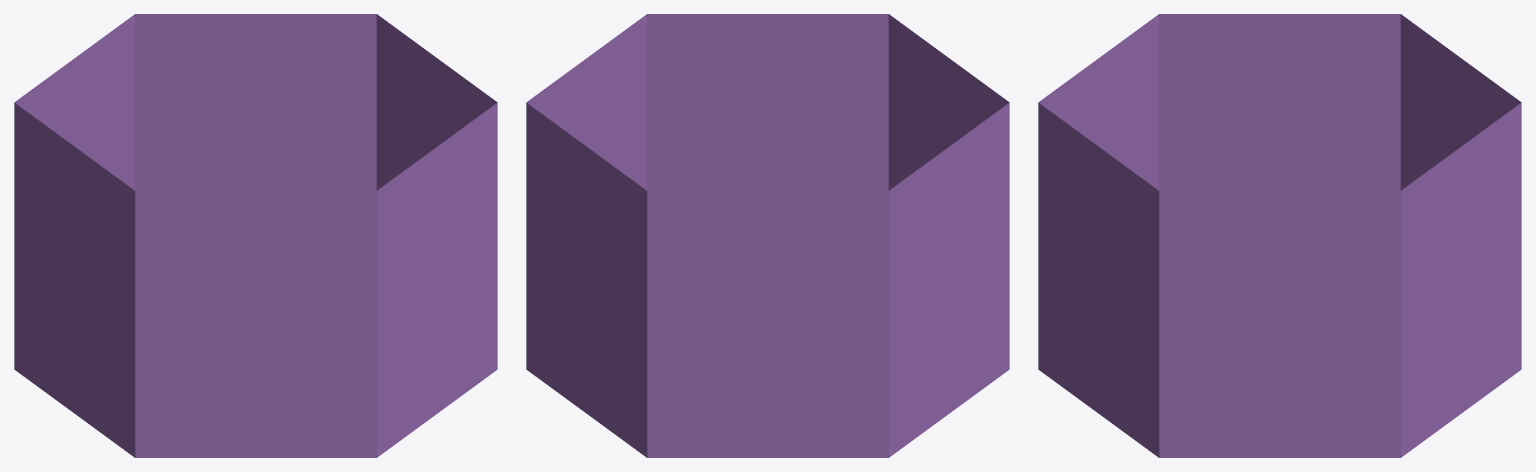
3 renders of one model, left to right at view 1: azimuth 30°, elevation 25°; view 2: azimuth 150°, elevation 25°; view 3: azimuth 270°, elevation 25°, orthographic.
Visible parts, largest first — view 1: Cylinder; view 2: Cylinder; view 3: Cylinder.
Boxes of the visible parts, x1,y1,x2,y2 form: Cylinder: (14,14,497,457); Cylinder: (526,14,1009,457); Cylinder: (1038,14,1521,457).
Bounding box in the file's own units: 2.84 × 3.28 × 2.
